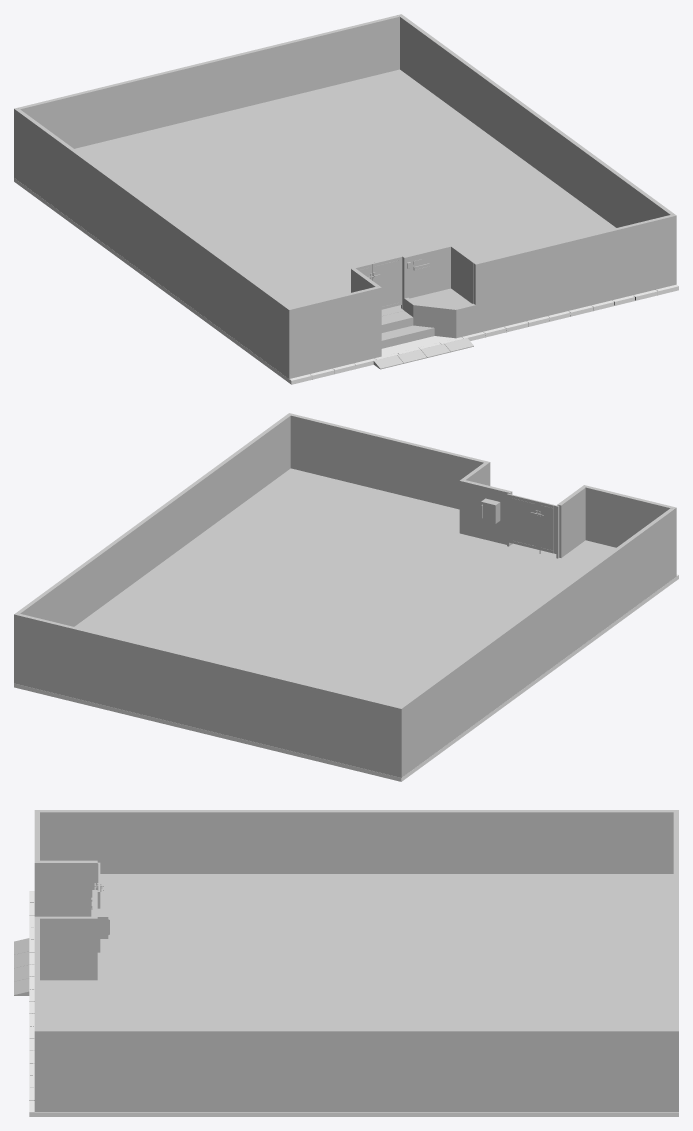
The model's file is Property_D2.fbx.
The picture shows the model from 3 angles, top to bottom: view 1: azimuth 30°, elevation 25°; view 2: azimuth 150°, elevation 25°; view 3: azimuth 270°, elevation 25°; orthographic projection. The views are drawn at different scales.
Visible parts, largest first — view 1: Ground.026, Wall.051, Wall.053, Wall.054, Wall.052, Ground.023, Door.057, Step.015; view 2: Ground.026, Wall.054, Wall.053, Wall.051, Wall.052, Ground.023, Door.057, Door.058; view 3: Ground.026, Wall.052, Wall.053, Wall.051, Ground.023, Wall.054, Step.015.
Part boxes in pixels (left/top/right/bottom): Ground.026: left=74, top=69, right=615, bottom=316; Wall.051: left=287, top=214, right=676, bottom=378; Wall.053: left=14, top=107, right=290, bottom=376; Wall.054: left=18, top=15, right=399, bottom=148; Wall.052: left=398, top=14, right=673, bottom=227; Ground.023: left=14, top=178, right=678, bottom=384; Door.057: left=372, top=256, right=401, bottom=309; Step.015: left=373, top=338, right=473, bottom=369; Ground.026: left=74, top=468, right=616, bottom=706; Wall.054: left=18, top=614, right=399, bottom=776; Wall.053: left=397, top=508, right=674, bottom=777; Wall.051: left=287, top=413, right=676, bottom=577; Wall.052: left=14, top=414, right=290, bottom=684; Ground.023: left=14, top=574, right=678, bottom=781; Door.057: left=509, top=494, right=538, bottom=549; Door.058: left=537, top=501, right=556, bottom=553; Ground.026: left=40, top=874, right=673, bottom=1029; Wall.052: left=40, top=1029, right=678, bottom=1111; Wall.053: left=40, top=810, right=678, bottom=873; Wall.051: left=34, top=810, right=108, bottom=1111; Ground.023: left=29, top=891, right=678, bottom=1116; Wall.054: left=673, top=812, right=678, bottom=1029; Step.015: left=14, top=938, right=29, bottom=995.
Size of the model in its own units: 1000 by 180 by 1270.
